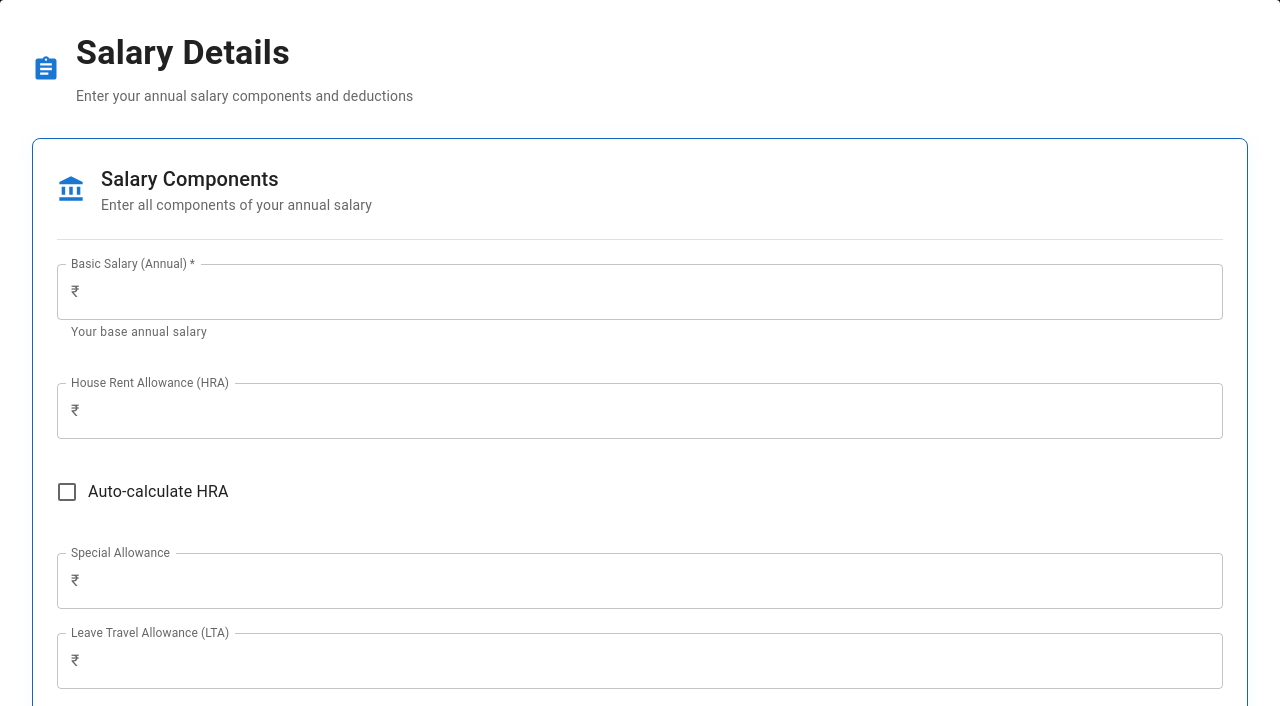
React Components › SalaryInputForm › should format currency inputs correctly
// Type a number
Type "500000" into the field labelled "Basic Salary (Annual) *".
click(655, 292); type("500000")  # box [87,264,1223,320]
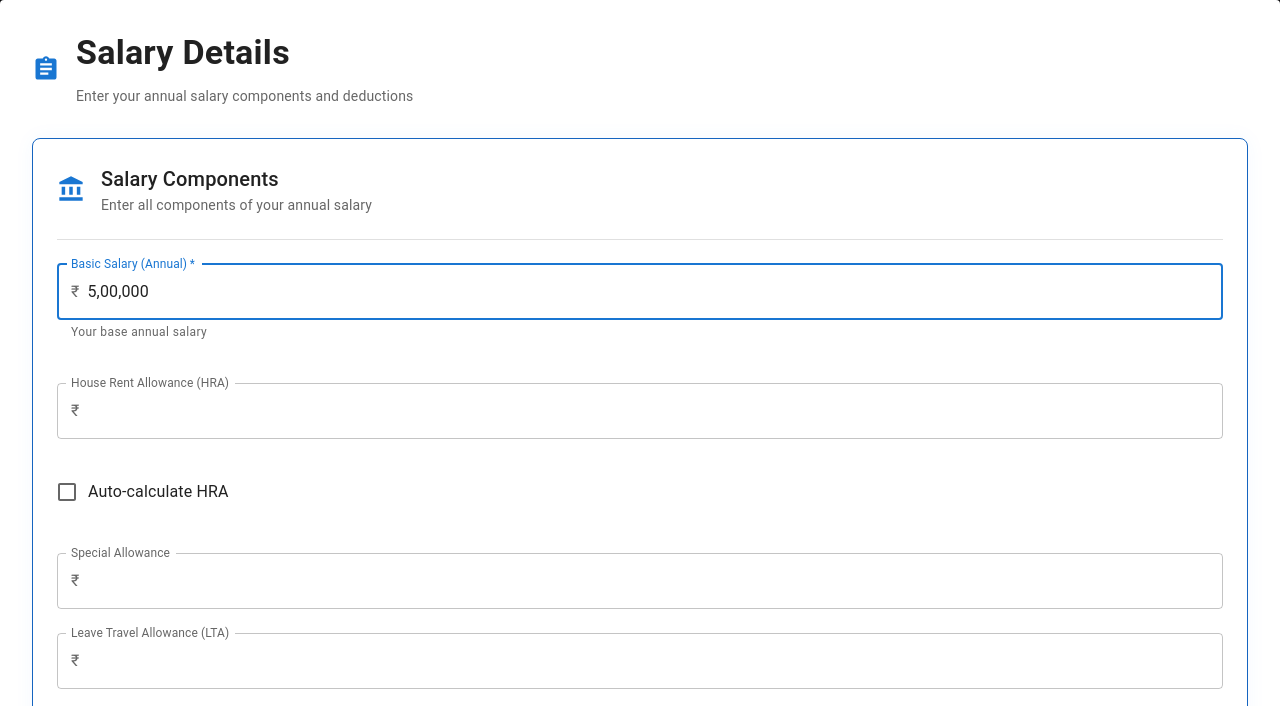
Expected: the field labelled "Basic Salary (Annual) *" holds "5,00,000", [87,264,1223,320]
